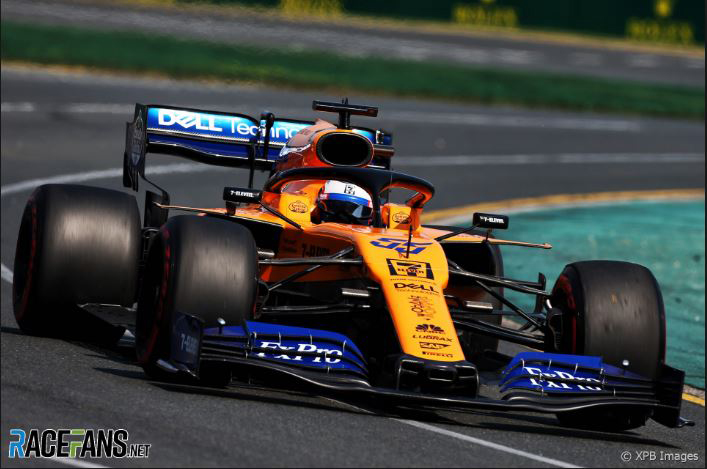F1 Car: (9, 94, 704, 439)
